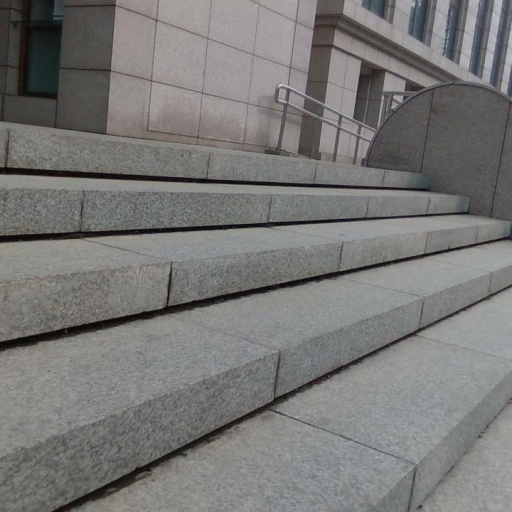Stairs: (0, 123, 512, 512)
